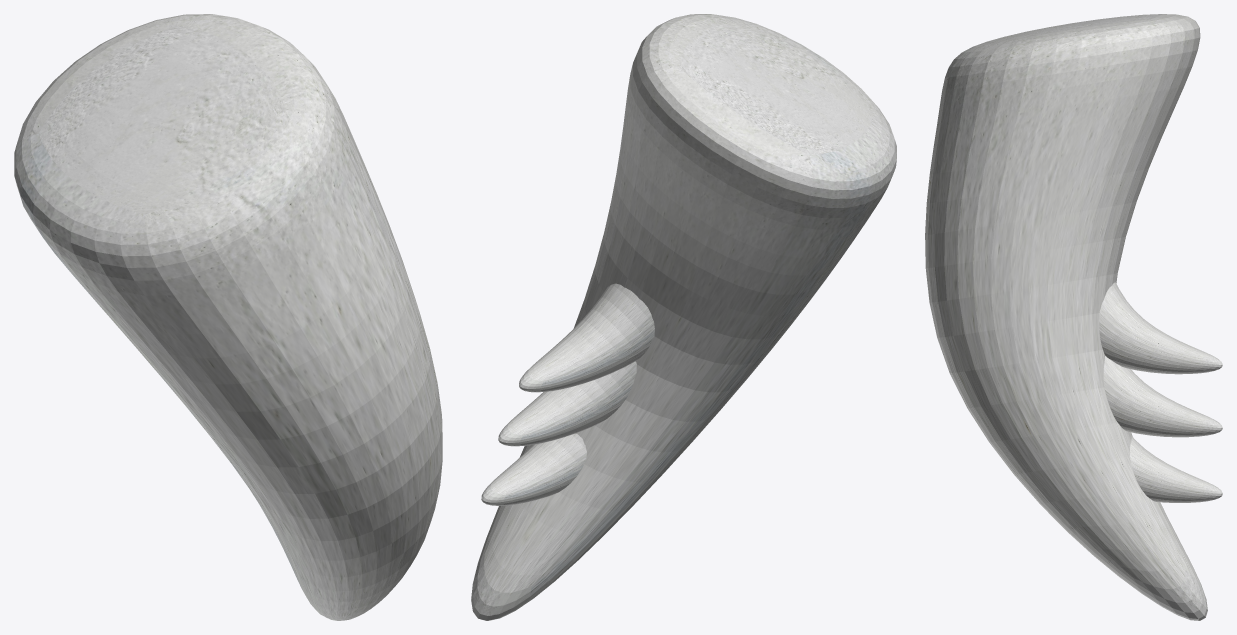
The model's file is cara2.obj.
3 renders of one model, left to right at view 1: azimuth 30°, elevation 25°; view 2: azimuth 150°, elevation 25°; view 3: azimuth 270°, elevation 25°, orthographic. The views are drawn at different scales.
Parts seen in each view (by area): view 1: colmillo; view 2: colmillo, colmillo.001; view 3: colmillo, colmillo.001.
Part boxes in pixels (left/top/right/bottom): colmillo: left=14, top=14, right=442, bottom=620; colmillo: left=471, top=14, right=896, bottom=620; colmillo.001: left=481, top=283, right=654, bottom=505; colmillo: left=925, top=14, right=1207, bottom=620; colmillo.001: left=1099, top=282, right=1222, bottom=502.
Bounding box in the file's own units: 1.01 × 1.62 × 0.8224.
1 material, 1 textured.
